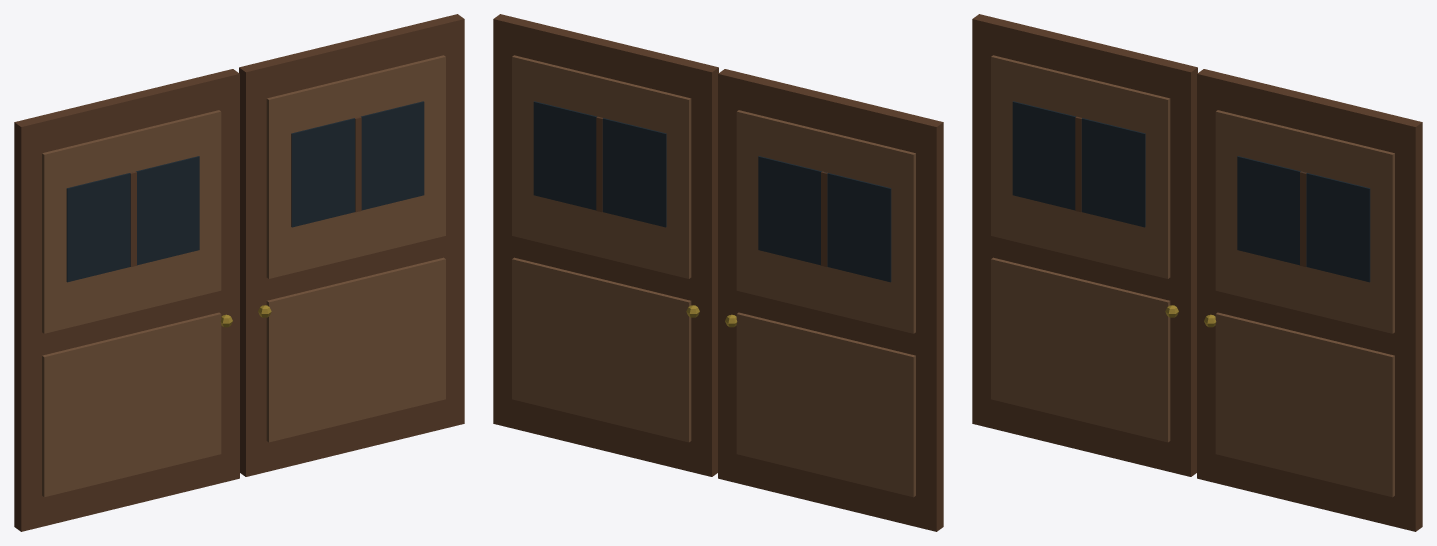
The model's file is prop_door_farmhouse.glb.
3 renders of one model, left to right at view 1: azimuth 30°, elevation 25°; view 2: azimuth 150°, elevation 25°; view 3: azimuth 330°, elevation 25°, orthographic.
Visible parts, largest first — view 1: LeafL, LeafR; view 2: LeafL, LeafR; view 3: LeafR, LeafL.
Boxes of the visible parts, <box> form: LeafL: <box>14,69,239,531</box>; LeafR: <box>239,14,464,476</box>; LeafL: <box>718,69,943,531</box>; LeafR: <box>493,14,718,476</box>; LeafR: <box>1197,69,1422,531</box>; LeafL: <box>972,14,1197,476</box>.
Bounding box in the file's own units: 2.98 × 2.6 × 0.22.
